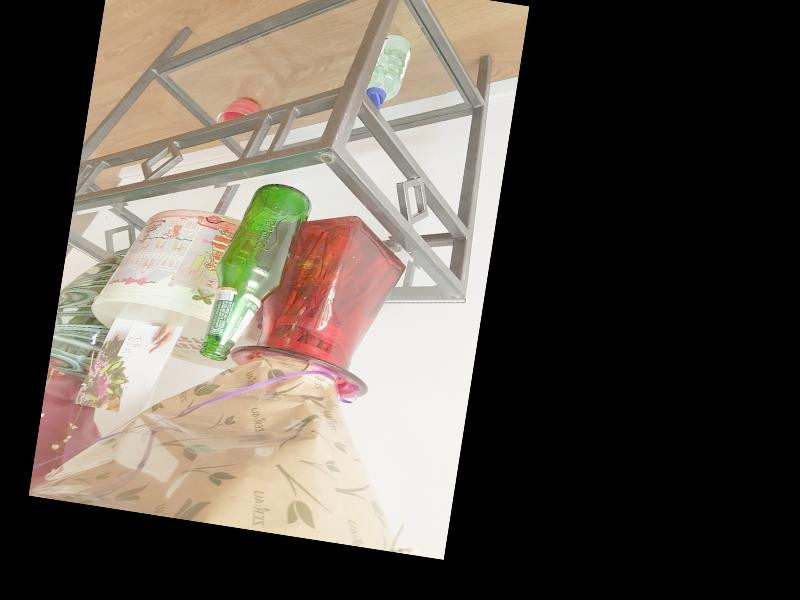Beer: (200, 175, 313, 371)
